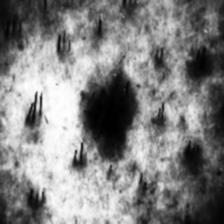Potentially Malignant Skin Tumors: (78, 73, 142, 159)
